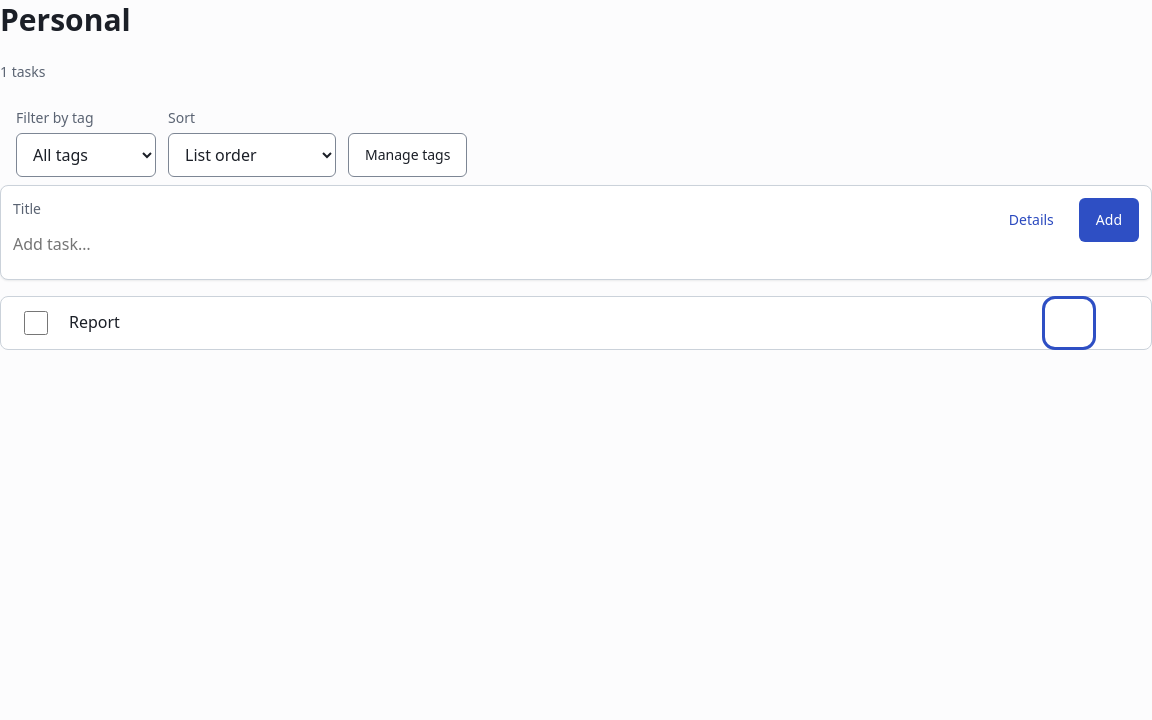
Test: keyboard-only: F11 move to list › opens the move dialog from the menu, picks with arrows, Enter moves
Step 1. Press ArrowDown in the button named "Actions for \"Report\"", box left=1047, top=301, right=1091, bottom=345
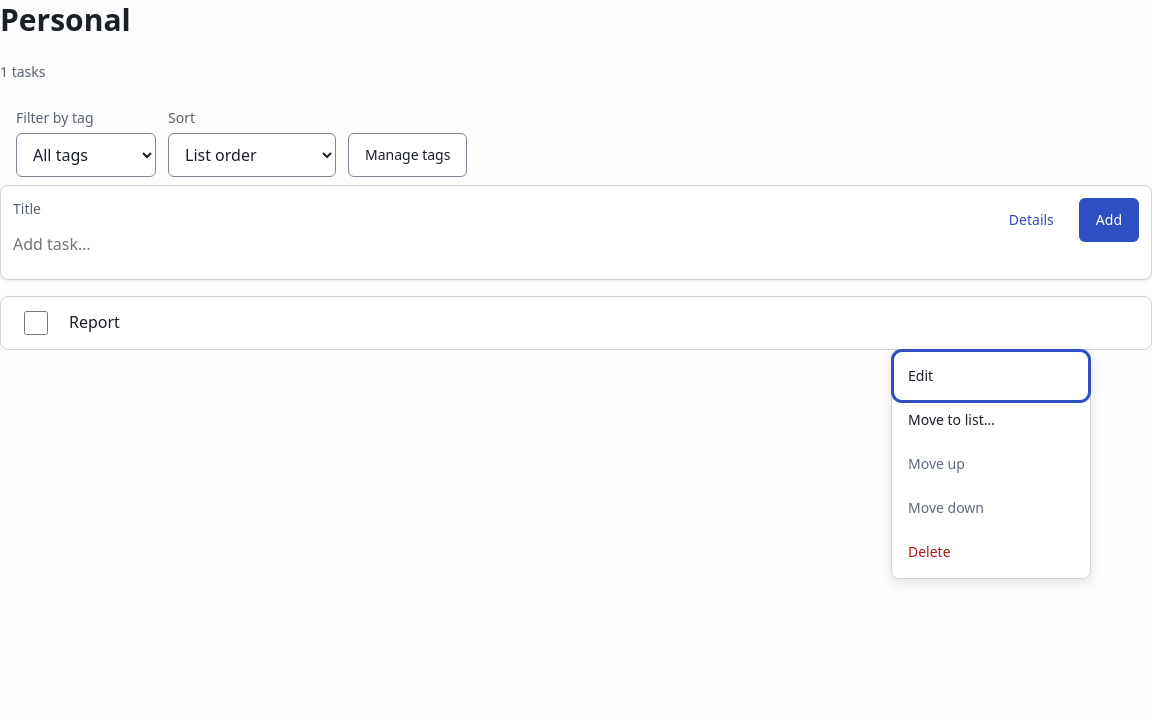
Step 2. Press ArrowDown in the menu, box left=891, top=349, right=1091, bottom=579
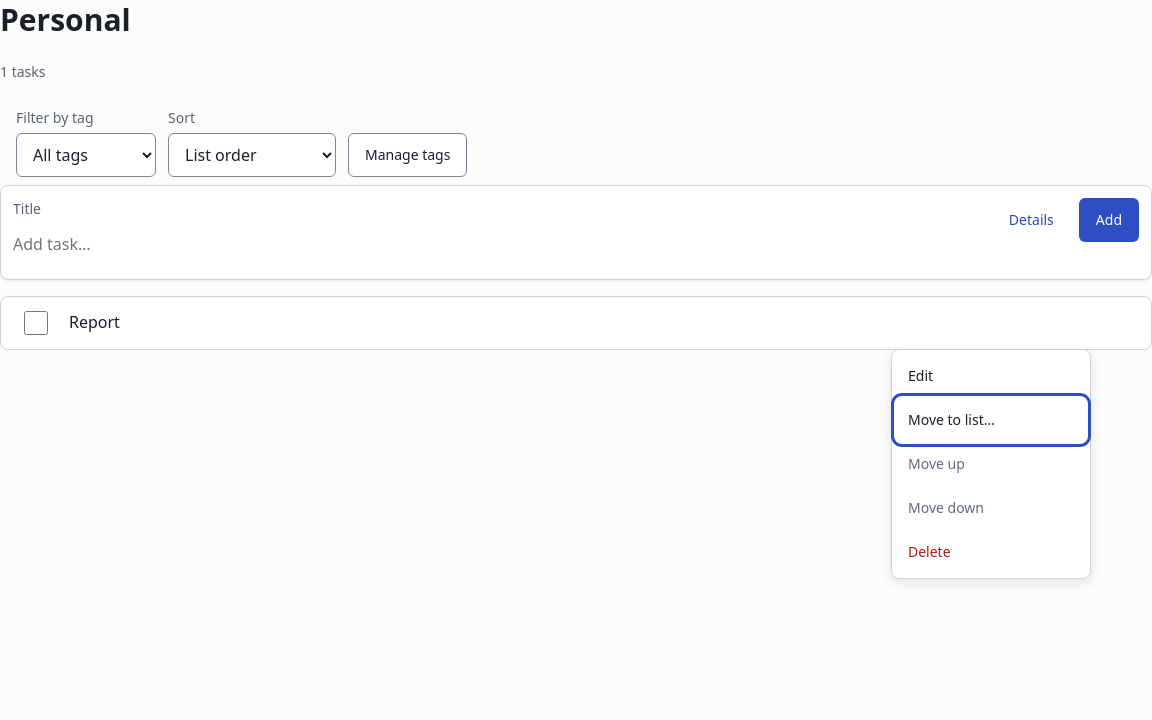
Result: the menu item "Move to list…" is shown
Step 3. Press Enter in the menu item "Move to list…", box left=896, top=398, right=1086, bottom=442
Step 4. Click the menu item "Move to list…" → (991, 420), box left=896, top=398, right=1086, bottom=442
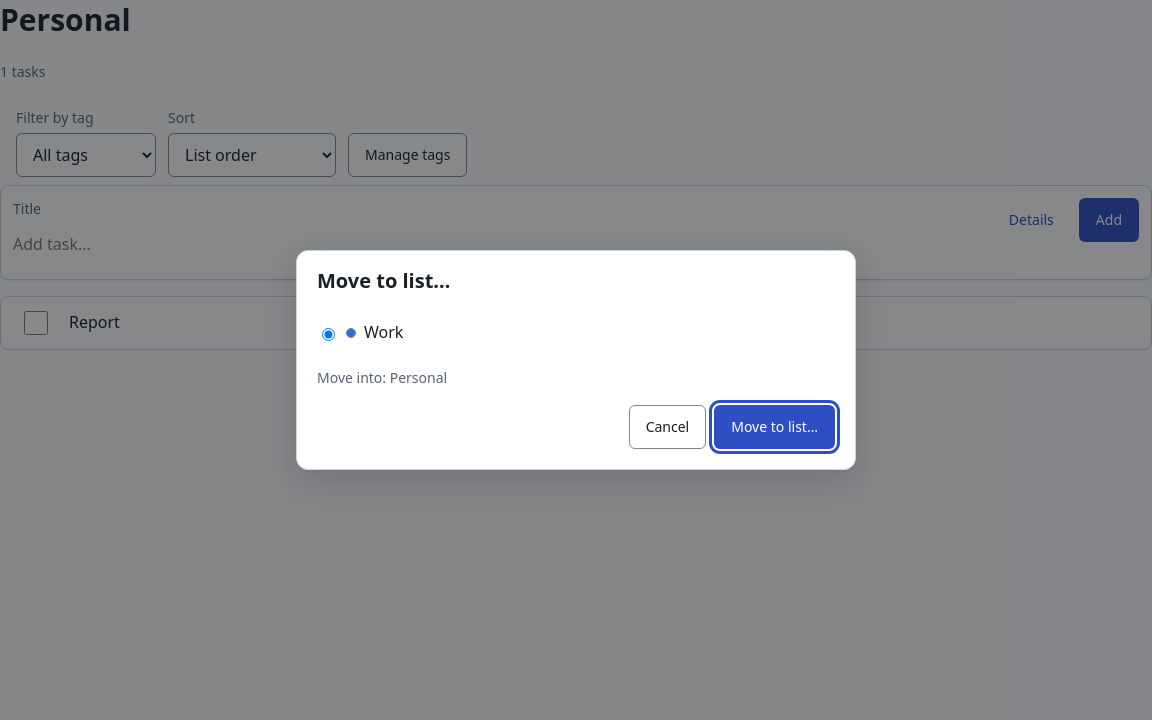
Step 5. Press Enter in the button "Move to list…", box left=714, top=405, right=835, bottom=449
Step 6. Click the button "Move to list…" → (775, 427), box left=714, top=405, right=835, bottom=449
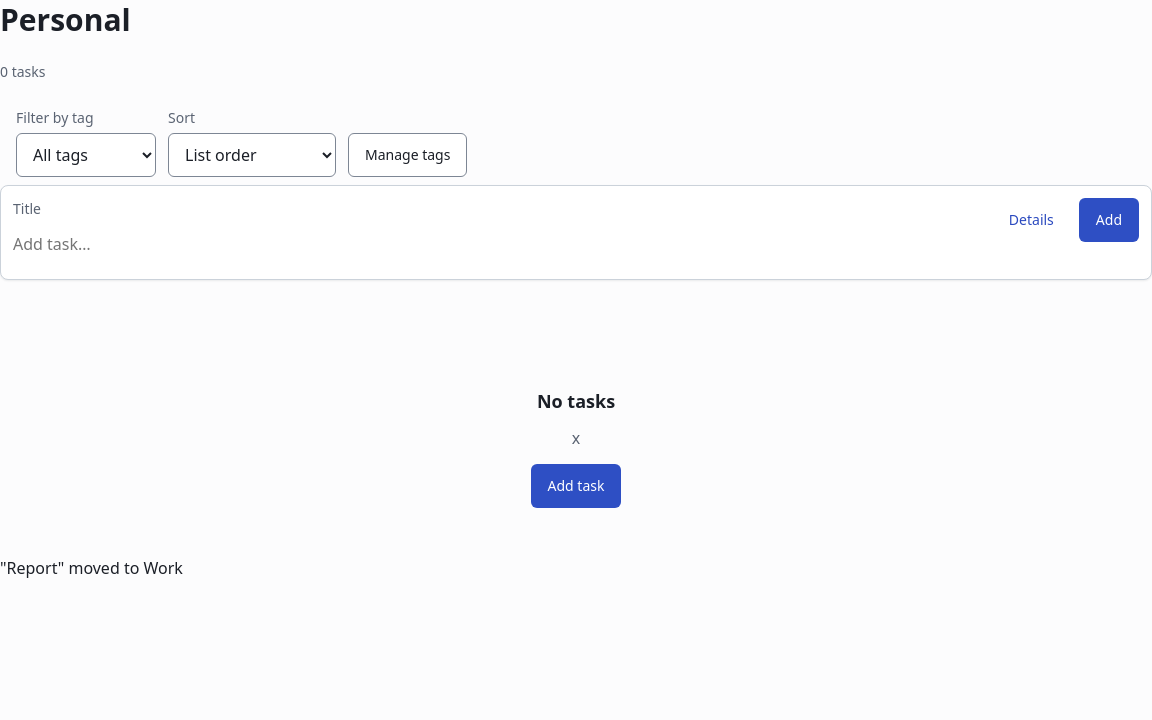
Result: the text "\"Report\" moved to Work" is shown at left=0, top=557, right=183, bottom=579
